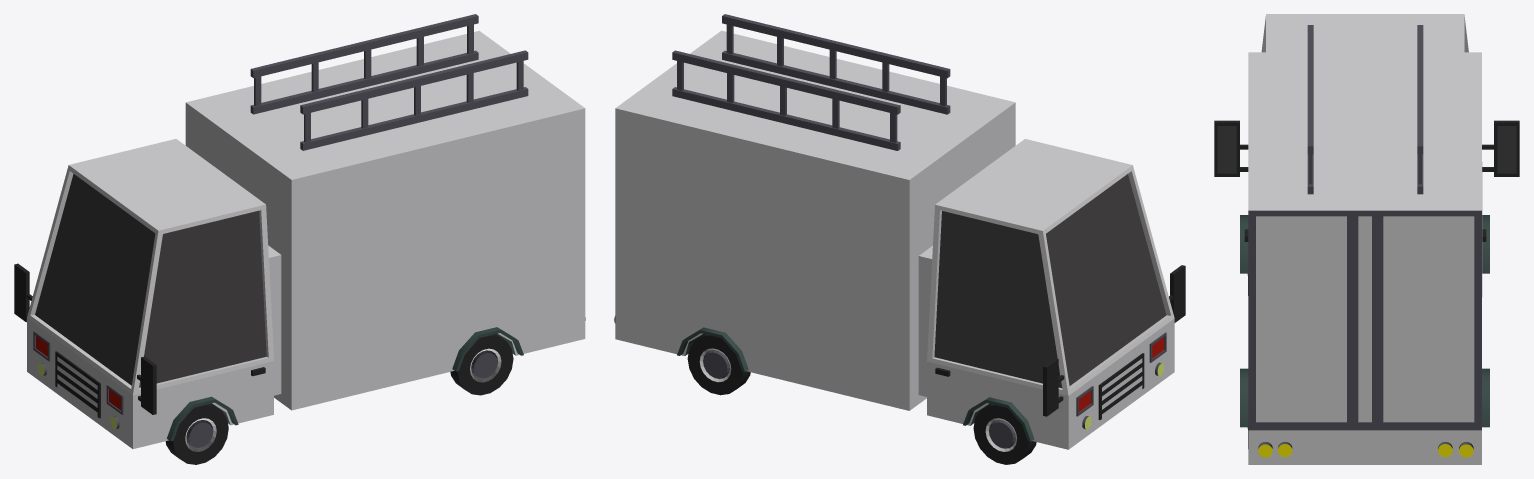
Rendered from van1.FBX.
3 renders of one model, left to right at view 1: azimuth 30°, elevation 25°; view 2: azimuth 150°, elevation 25°; view 3: azimuth 270°, elevation 25°, orthographic. The views are drawn at different scales.
Parts seen in each view (by area): view 1: van1; view 2: van1; view 3: van1.
Part boxes in pixels (x1,y1,x2,y2): van1: (14, 14, 585, 464); van1: (614, 14, 1185, 464); van1: (1214, 14, 1519, 464).
Bounding box in the file's own units: 12.53 × 7.95 × 6.53.
